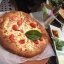basil: (25, 29, 46, 41)
pizza: (1, 10, 47, 57)
